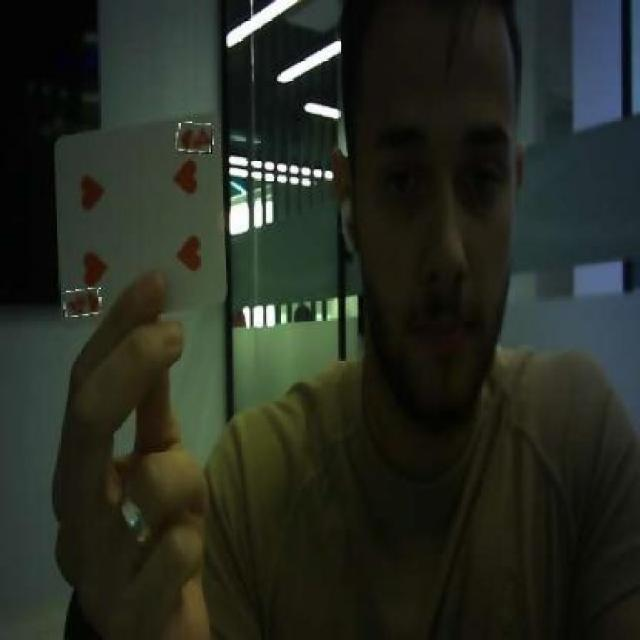4H: (176, 123, 213, 154), (64, 289, 101, 317)
